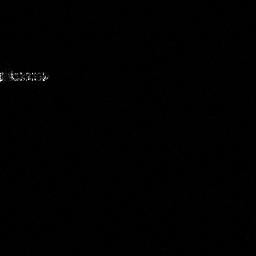ship: (1, 71, 49, 83)
